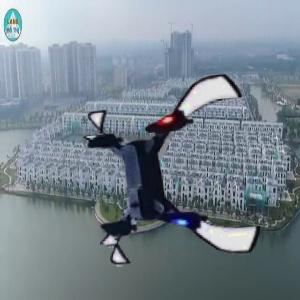drone: (82, 78, 268, 264)
